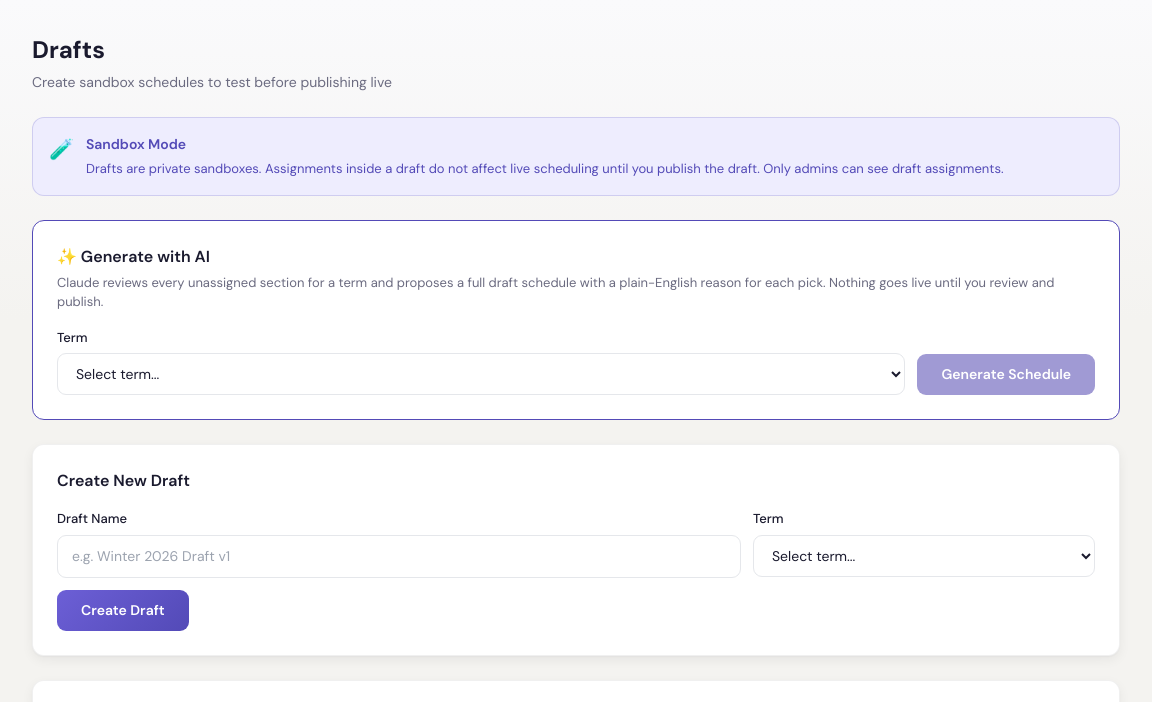
Test: AdminDrafts › shows rejected reasons without a draft link when the AI could not confidently assign anything
The width and height of the screenshot is (1152, 702).
Select "Winter 2026" in the dropdown labelled "Term" below "✨ Generate with AI" at [481, 374], box [57, 353, 906, 395]
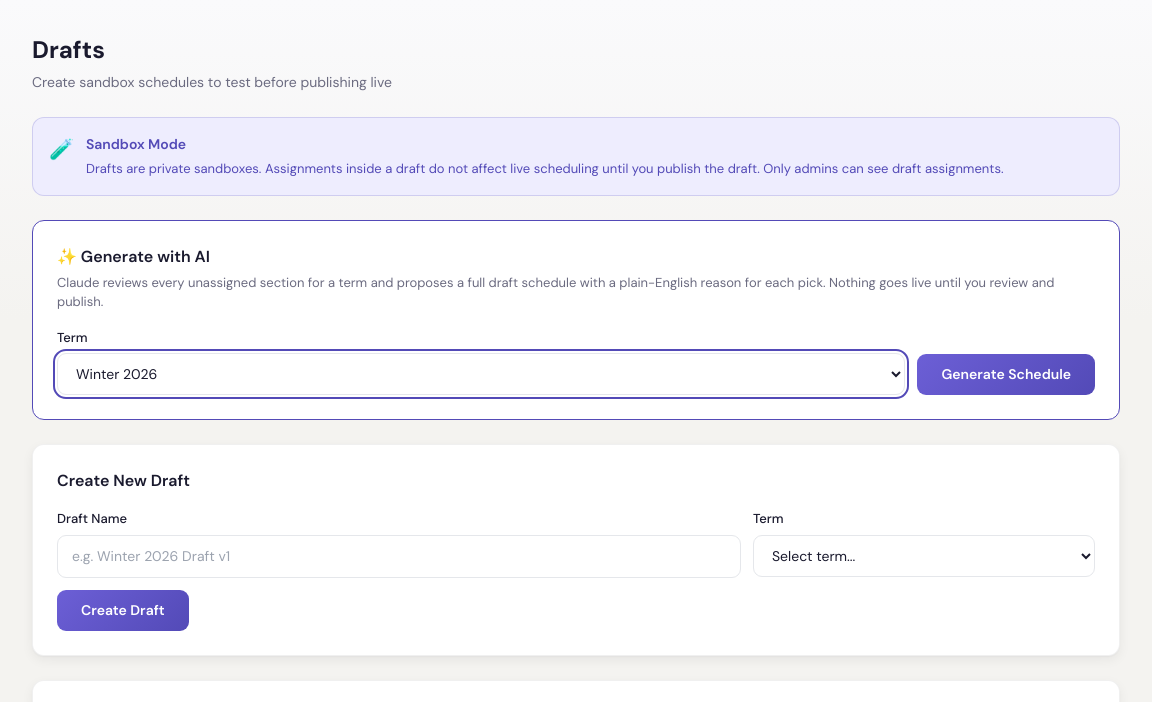
Click the button "Generate Schedule" at [1006, 374], box [918, 354, 1095, 395]
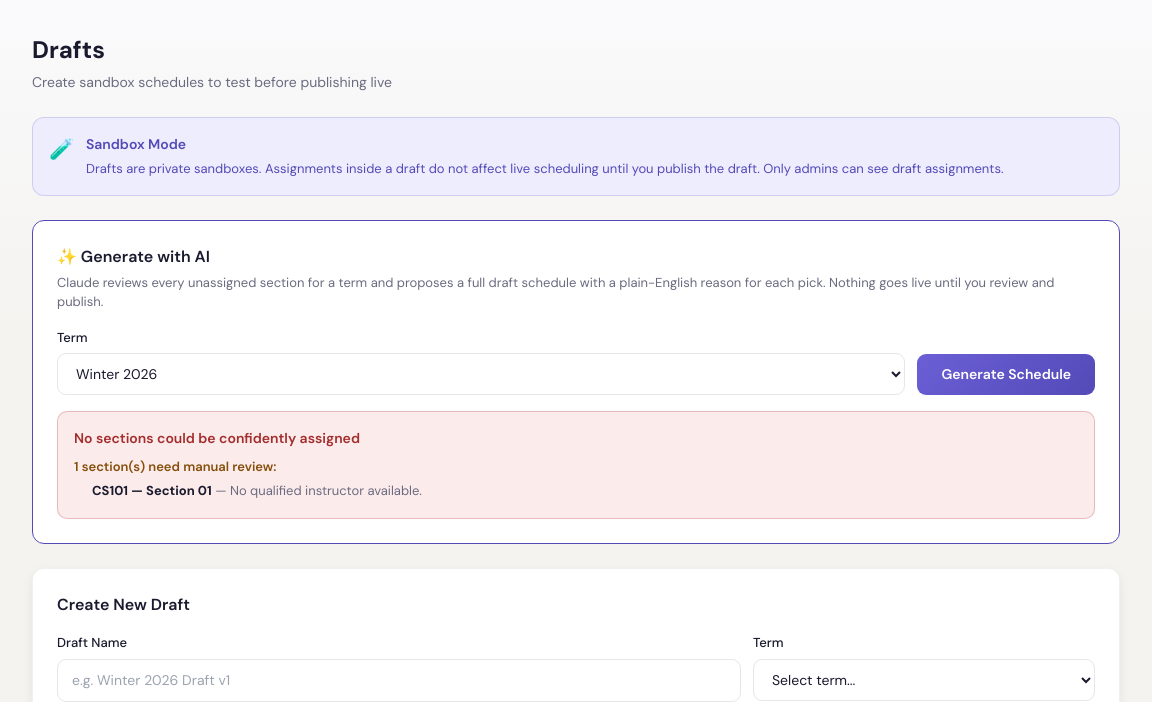
Expected: the text "No sections could be confidently assigned" is shown, [74, 429, 360, 447]
Expected: the list item "CS101 — Section 01 — No qualified instructor available." is shown, [92, 482, 422, 498]
